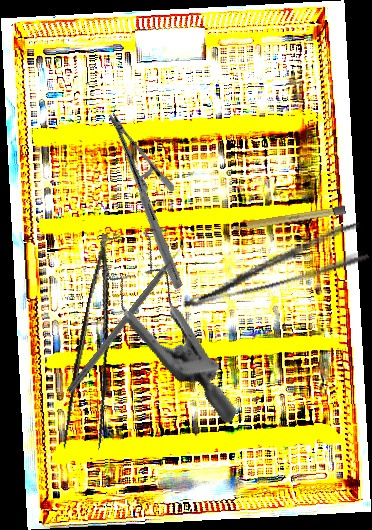Dressing Forceps: (173, 220, 371, 313)
Hook Surgical: (66, 241, 190, 396)
Needle Holder: (51, 110, 240, 291)
Scalpel Handle: (230, 204, 346, 233)
Speculum: (53, 205, 297, 425)
Tissue Forceps: (56, 233, 144, 456)
